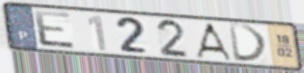1: (87, 14, 108, 52)
2: (116, 16, 154, 56), (154, 18, 191, 59)
A: (193, 22, 234, 62)
D: (226, 22, 270, 63)
E: (31, 9, 78, 50)
